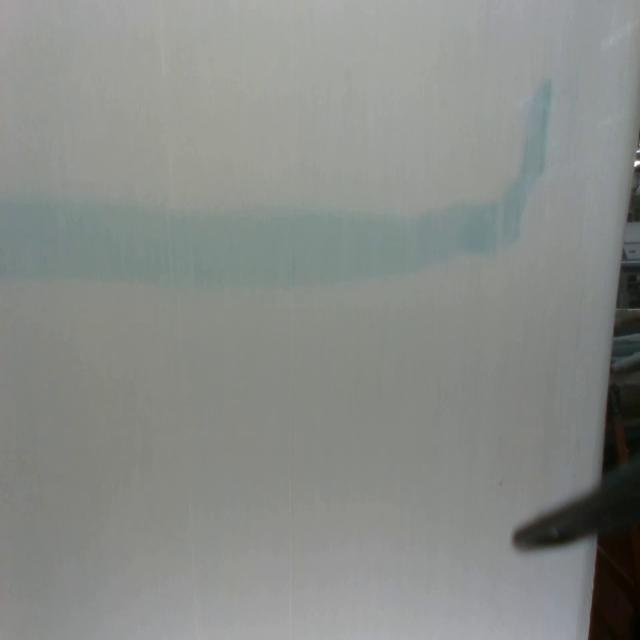color bleeding: (0, 77, 553, 283)
crease: (156, 7, 198, 640), (285, 144, 298, 638)
